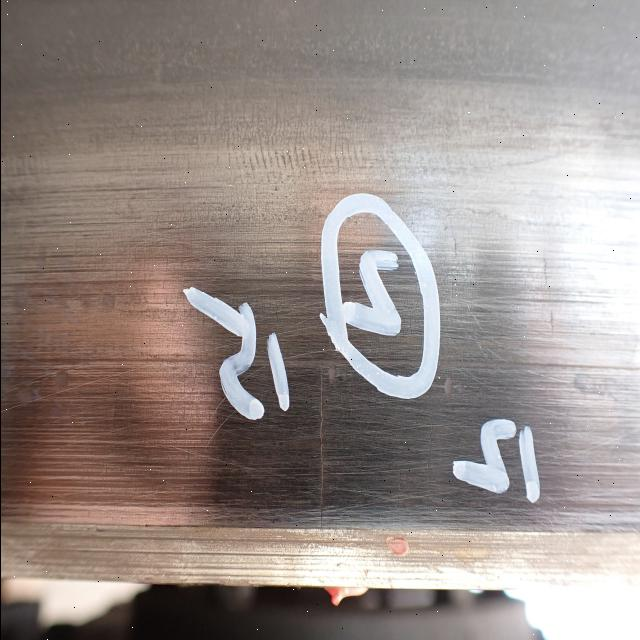hot crack: (308, 362, 336, 533)
